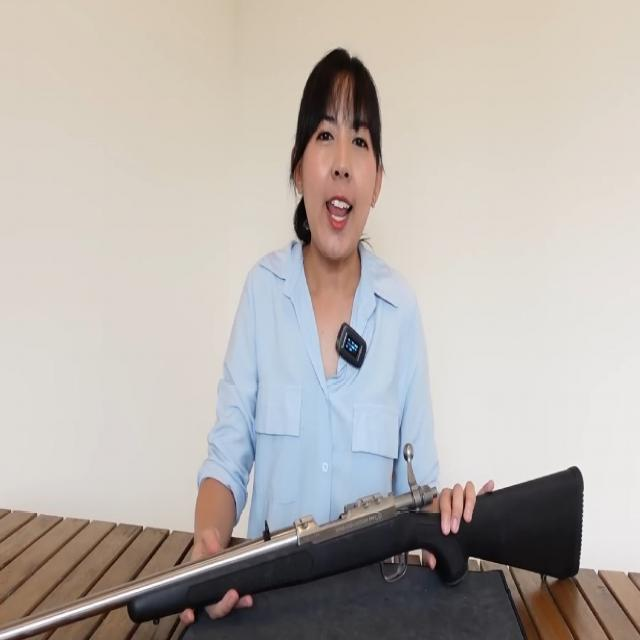rifle: (1, 437, 588, 639)
